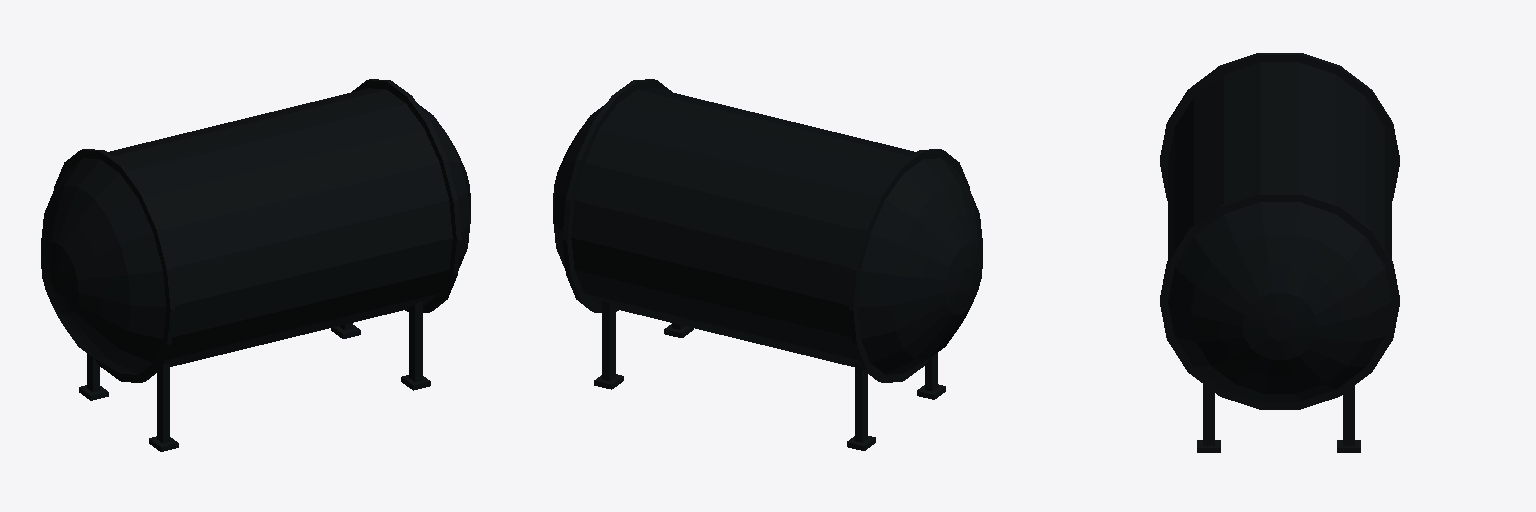
File: water_tank.obj
3 renders of one model, left to right at view 1: azimuth 30°, elevation 25°; view 2: azimuth 150°, elevation 25°; view 3: azimuth 270°, elevation 25°, orthographic.
Parts seen in each view (by area): view 1: water_tank; view 2: water_tank; view 3: water_tank.
Boxes of the visible parts, x1,y1,x2,y2 form: water_tank: [41, 79, 470, 451]; water_tank: [553, 79, 982, 450]; water_tank: [1160, 53, 1399, 452].
Bounding box in the file's own units: 8.23 × 5.22 × 4.3.